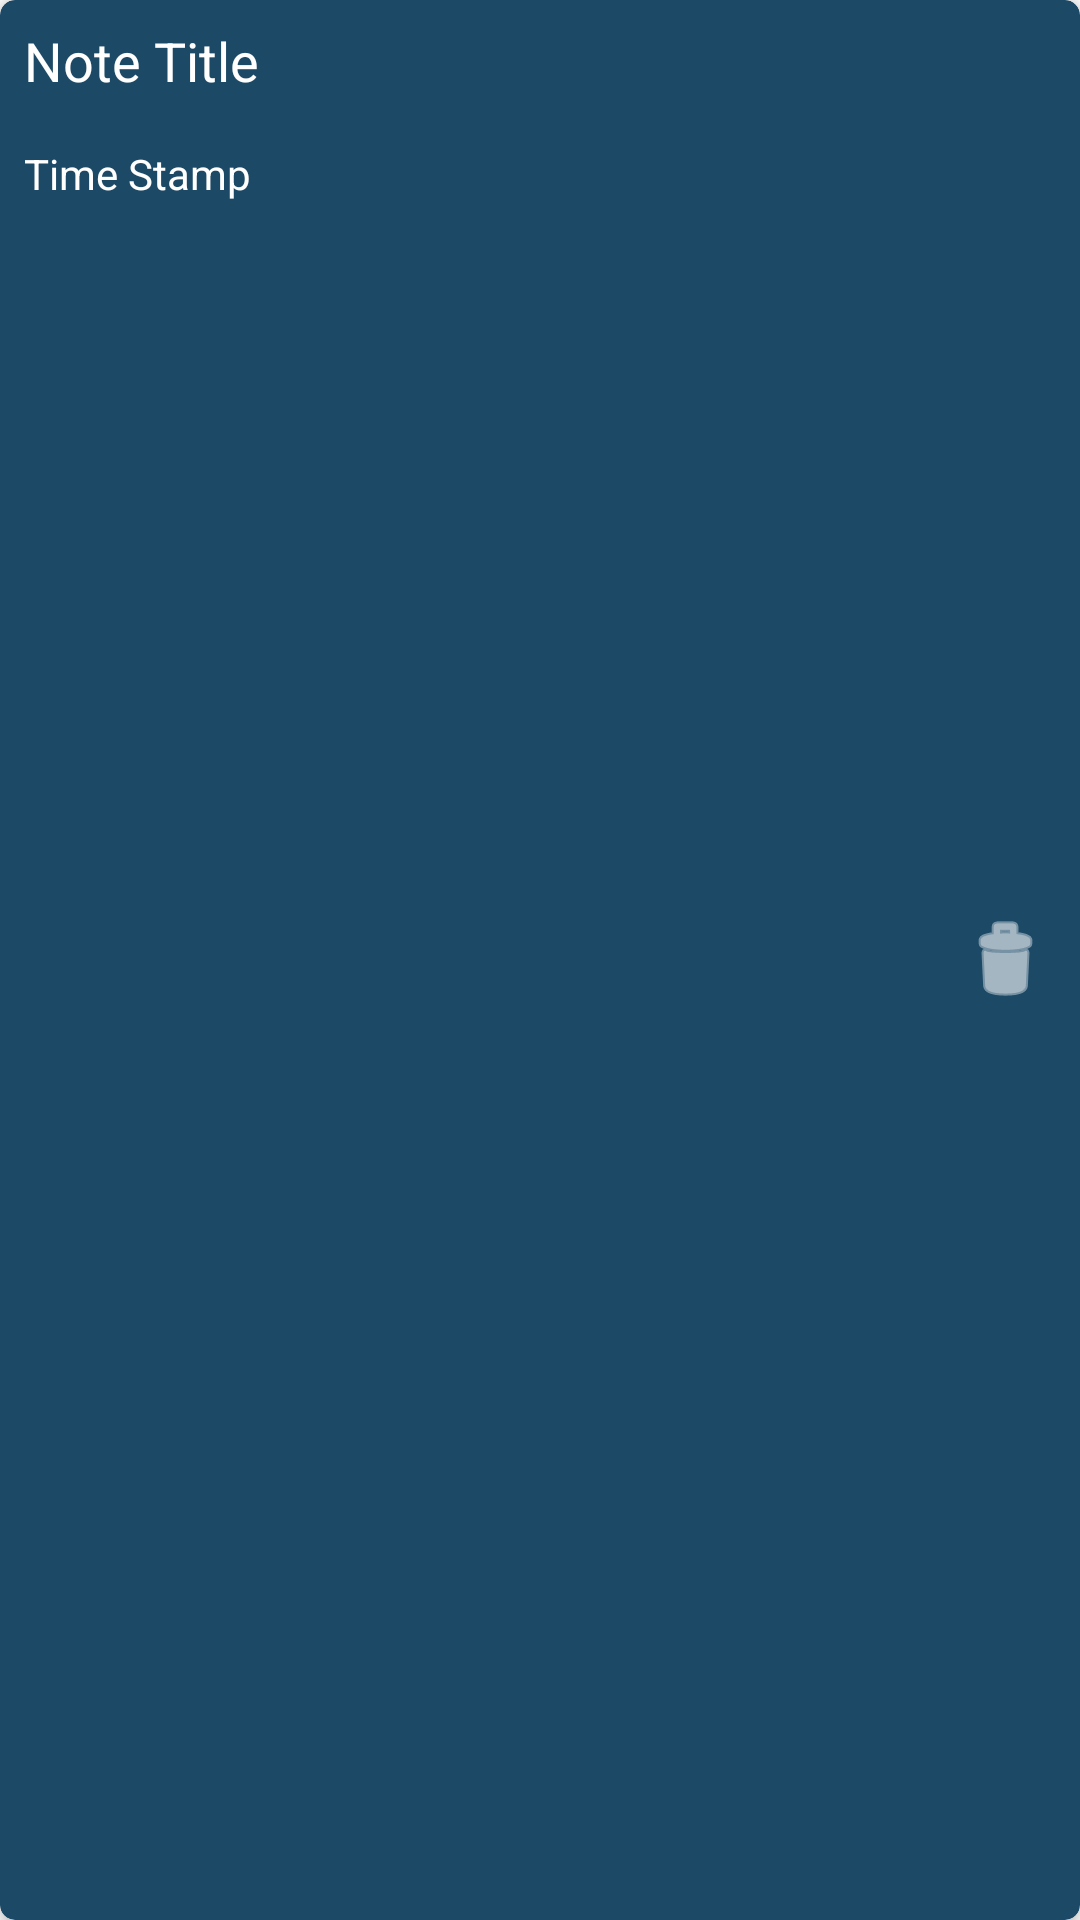

Named icons in this screenshot (1080 × 1920) and their centers, point (x, y):
delete: point (1005, 958)
